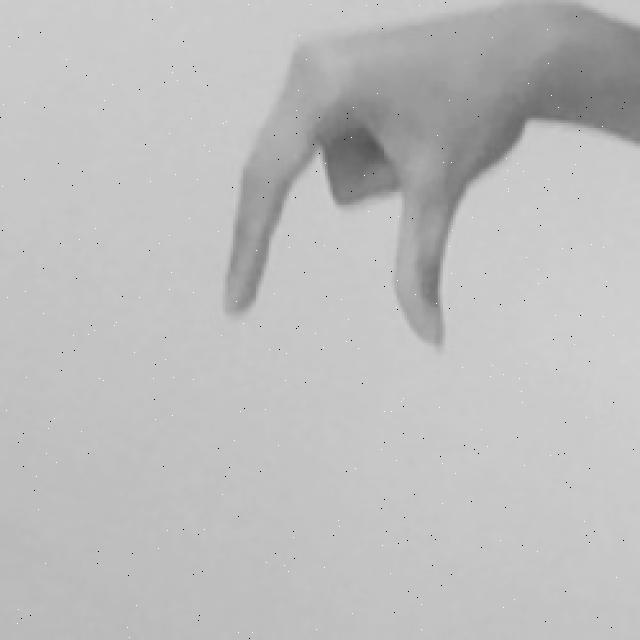Q: (220, 0, 640, 357)
